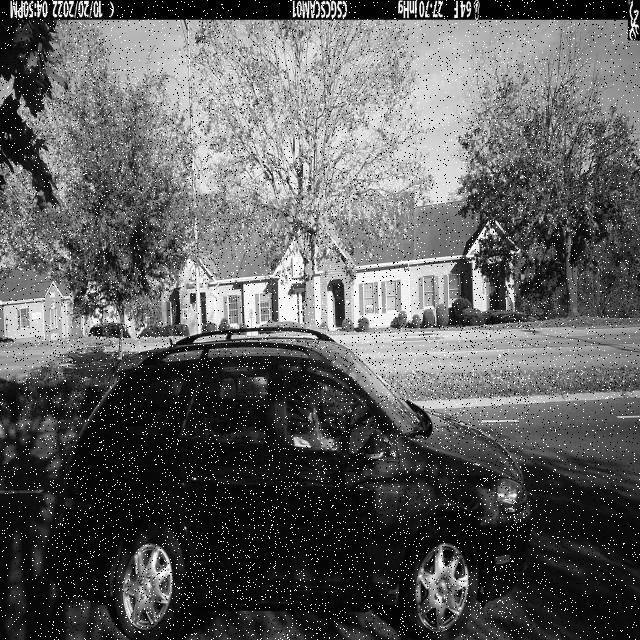SUV: (46, 323, 533, 640)
